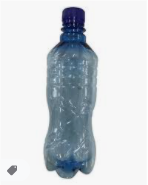Bottle: (47, 7, 96, 176)
